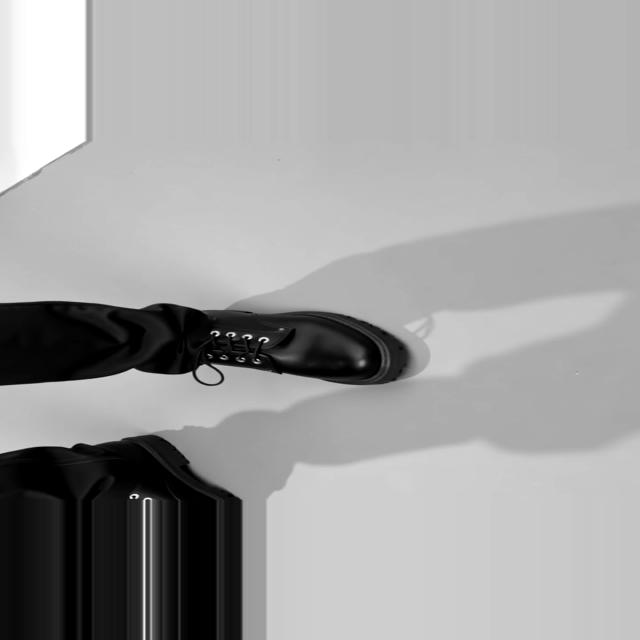Boots: (190, 306, 409, 394)
